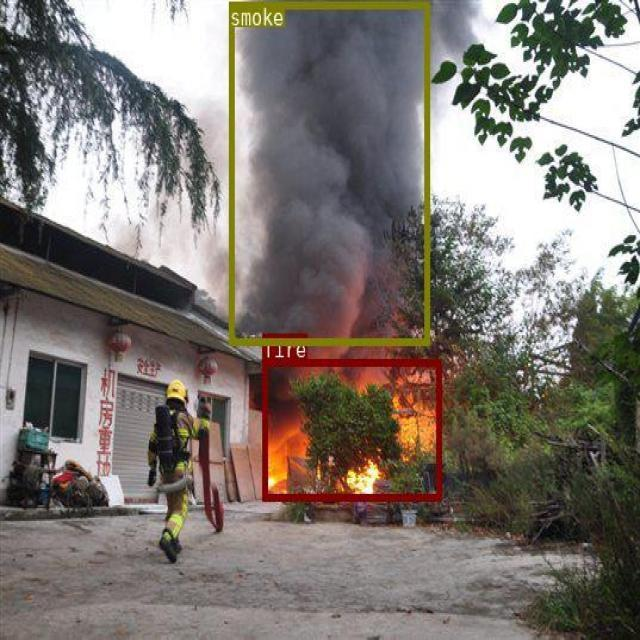fire: (261, 358, 441, 500)
smoke: (229, 0, 429, 344)
